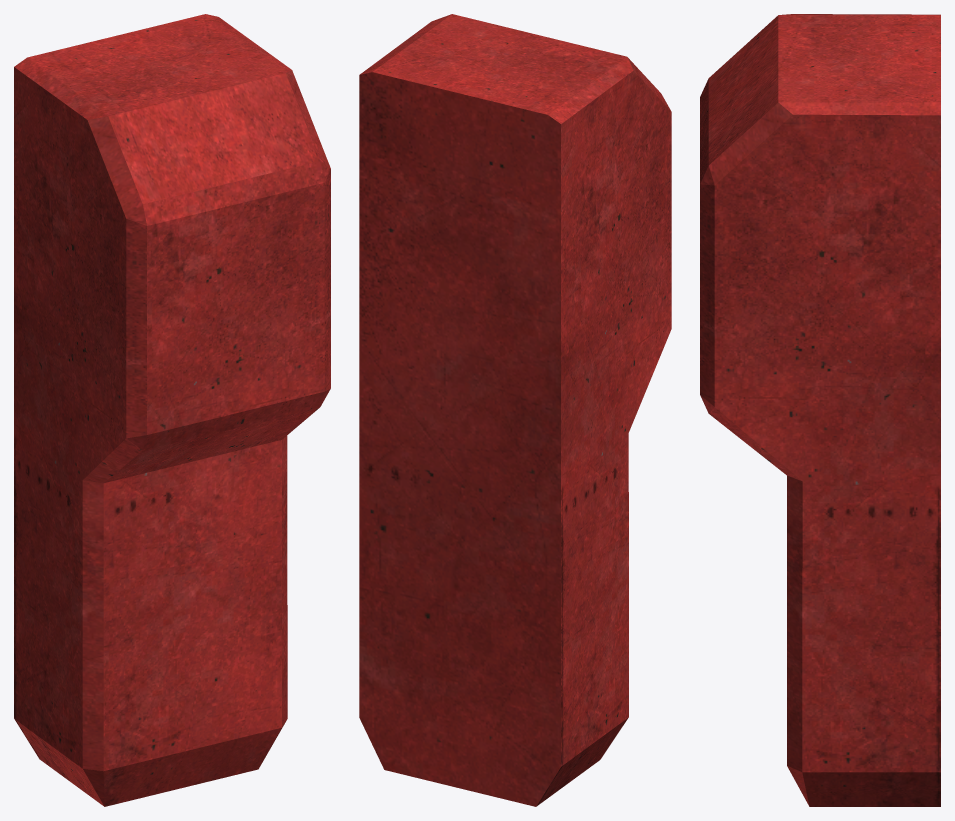
The model's file is Ob_ScafDetail4_RC.fbx.
3 views of the same model, side by side, from view 1: azimuth 30°, elevation 25°; view 2: azimuth 150°, elevation 25°; view 3: azimuth 270°, elevation 25° (orthographic). The views are drawn at different scales.
Visible parts, largest first — view 1: Ob_ScafDetail4_RC; view 2: Ob_ScafDetail4_RC; view 3: Ob_ScafDetail4_RC.
Part boxes in pixels (x1,y1,x2,y2): Ob_ScafDetail4_RC: (14,14,330,806); Ob_ScafDetail4_RC: (359,14,671,806); Ob_ScafDetail4_RC: (700,14,940,806).
Size of the model in its own units: 543 by 1785 by 549.
